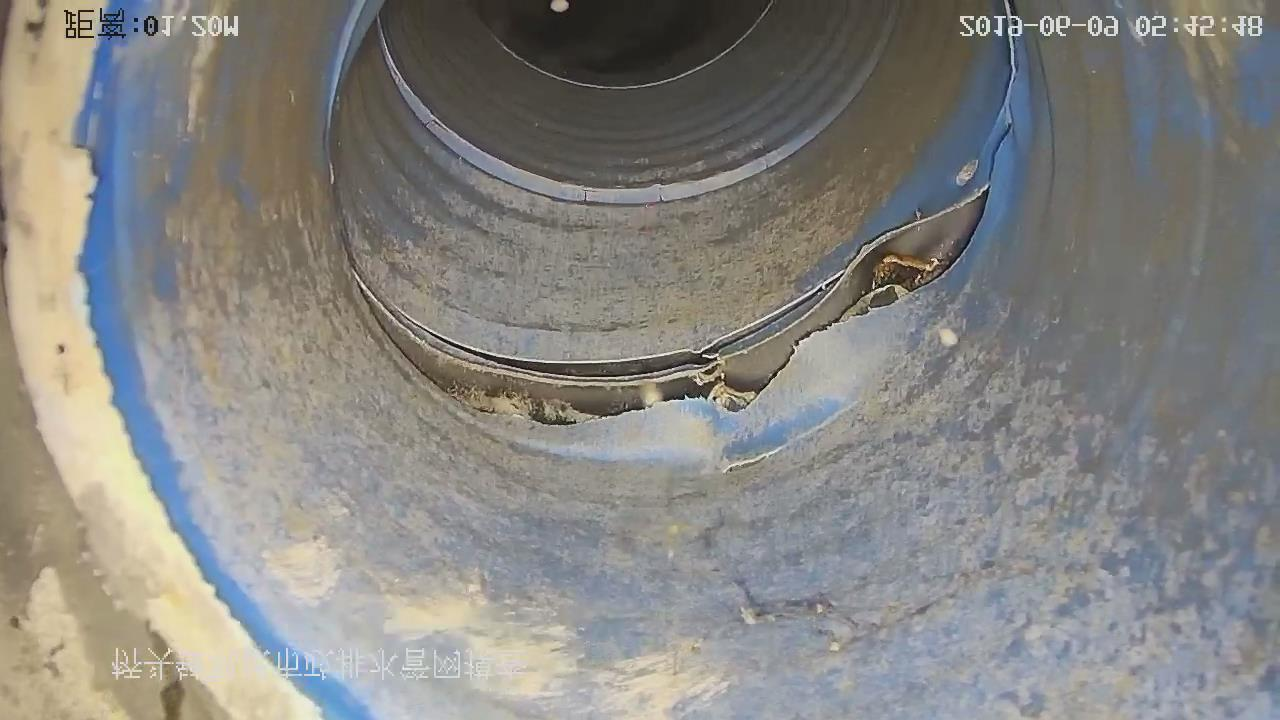PL: (347, 8, 1041, 439)
